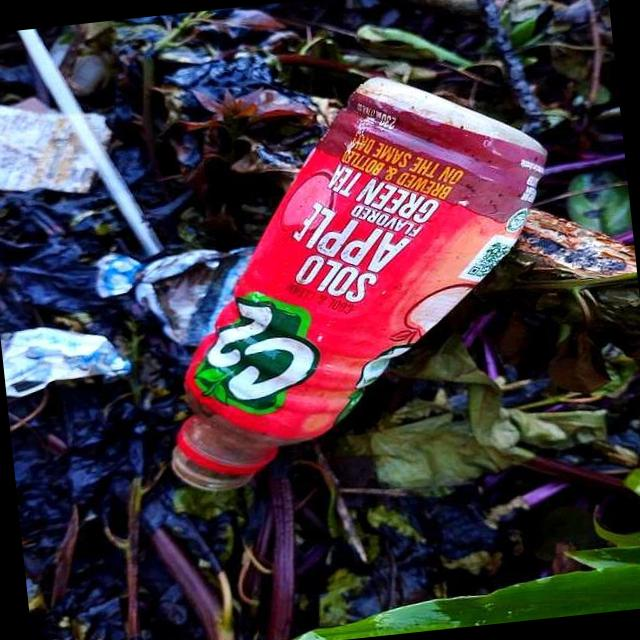Non-biodegradable: (66, 42, 605, 620)
